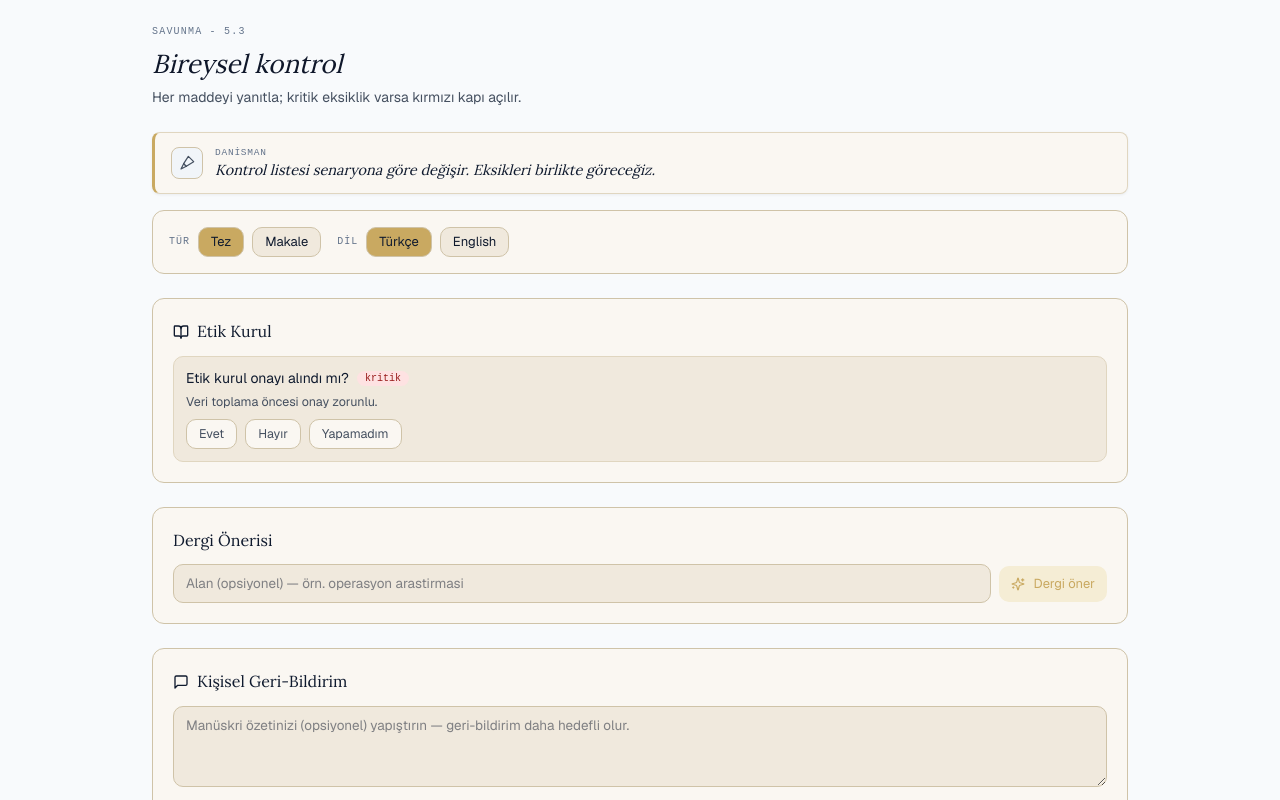
IndividualFeedbackPage › session varken radio tikla → PUT individual-check + critical_blocked banner
The width and height of the screenshot is (1280, 800).
Expected: the text "Etik kurul onayı alındı mı?kritik" is shown, [186,369,409,387]
Click the button "Hayır": (273, 434) [245,419,301,449]
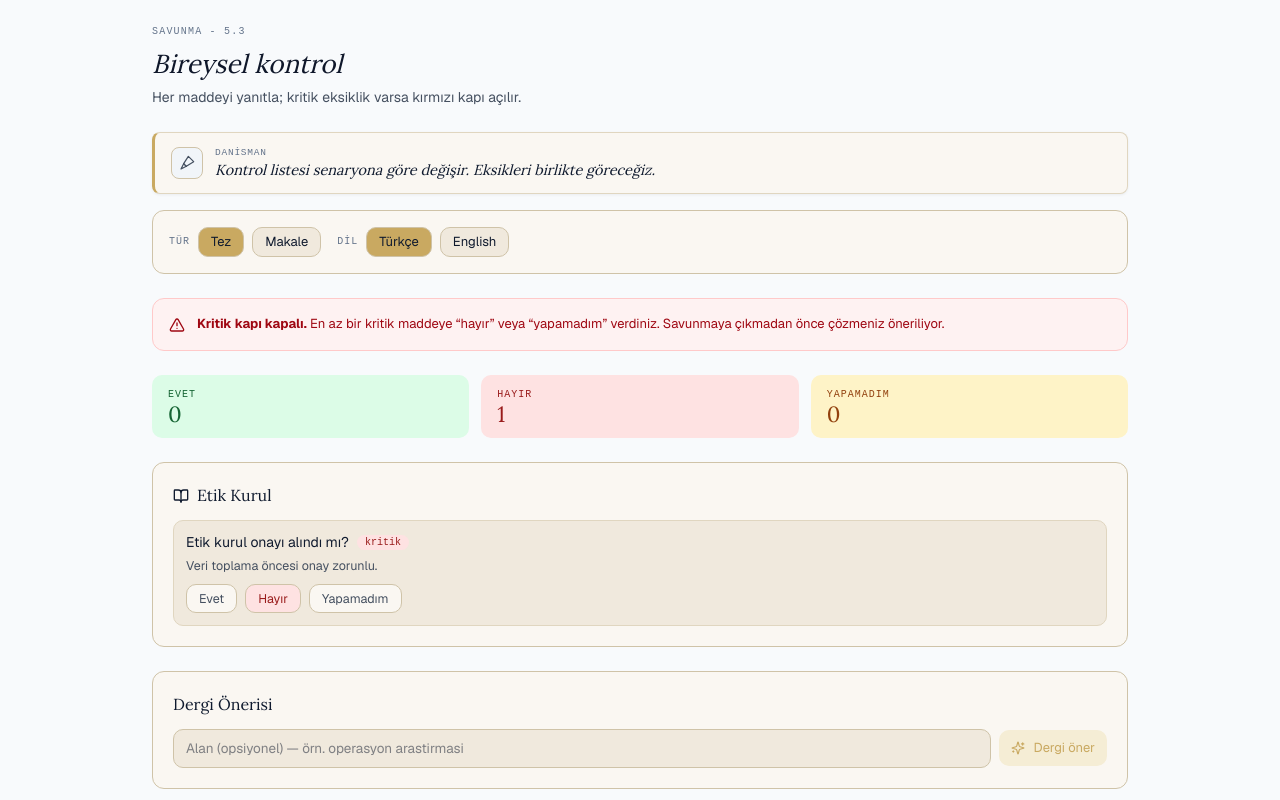
Expected: the text "Kritik kapı kapalı." is shown, [197,315,307,332]
